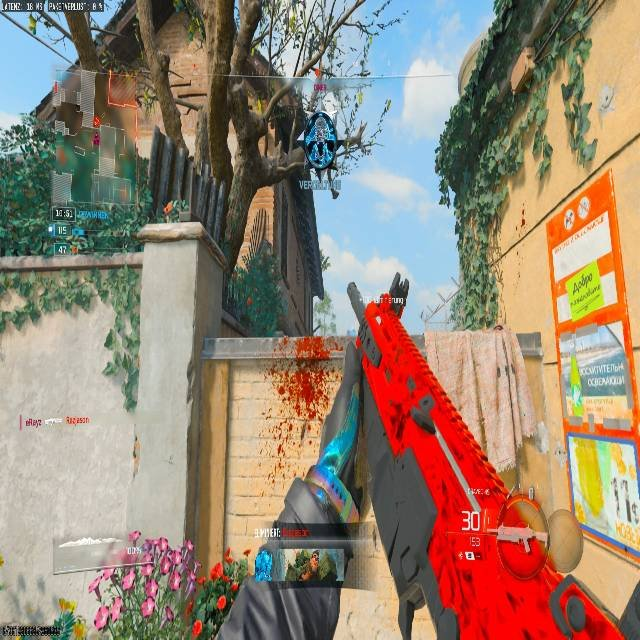head: (496, 495, 548, 576)
player: (301, 102, 343, 202), (320, 248, 331, 271)
